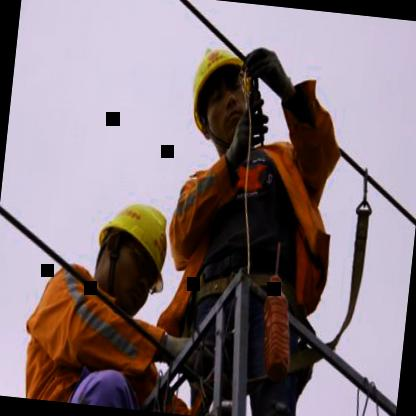helmet: (82, 182, 182, 317), (176, 32, 265, 164)
